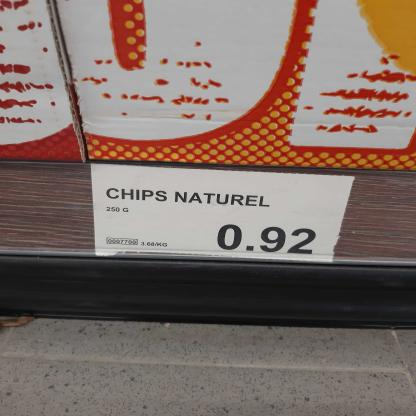prtg: (91, 163, 358, 264)
